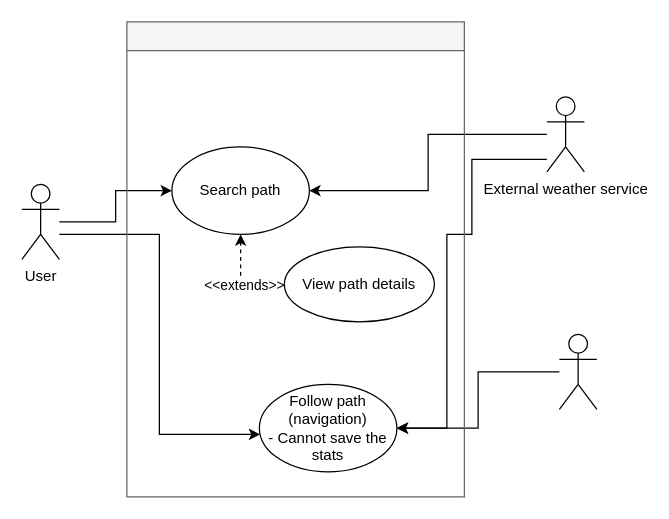
Image size: 669x519. Some labels were removed from this diagram. Each missing label, with the box of its shape:
BBP: (126, 21, 464, 497)
Device sensors: (558, 333, 597, 409)
